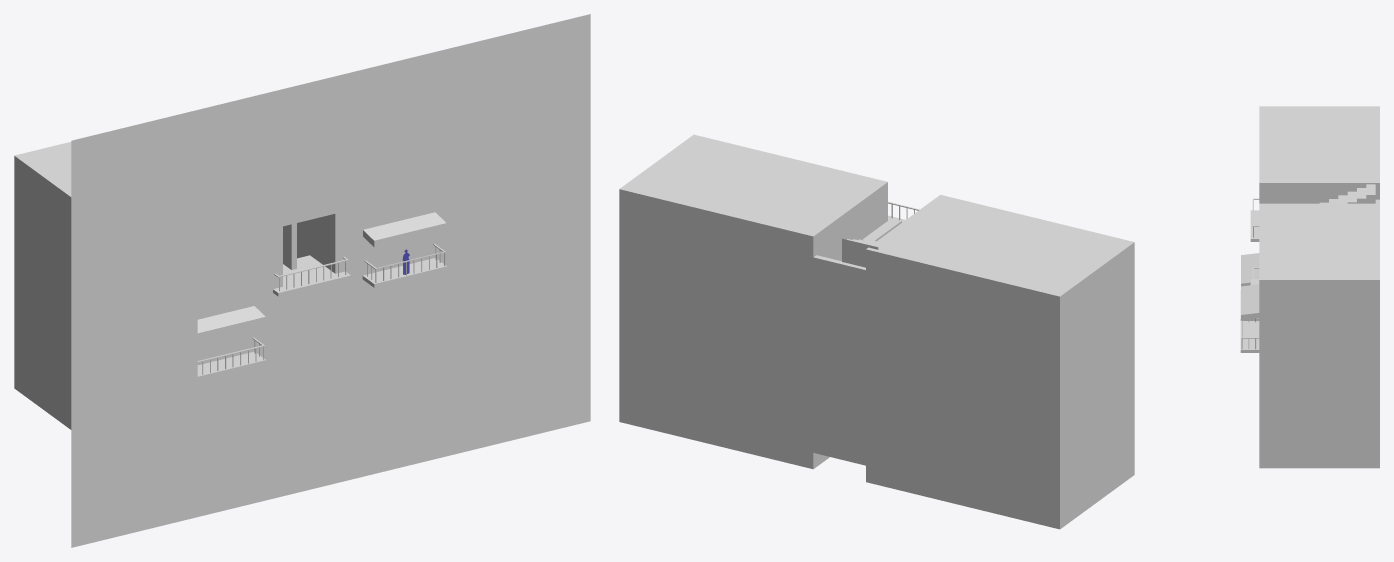
File: page_2__scene.glb
3 views of the same model, side by side, from view 1: azimuth 30°, elevation 25°; view 2: azimuth 150°, elevation 25°; view 3: azimuth 270°, elevation 25° (orthographic). The views are drawn at different scales.
Visible parts, largest first — view 1: bounds, Cube, Cube.006, Cube.009, Cube.004, Cube.012, Cube.008, Cube.011; view 2: Cube, Cube.003, Cube.013; view 3: Cube, Cube.013, Cube.009, Cube.008, Cube.012.
Boxes of the visible parts, x1,y1,x2,y2 form: bounds: (71,14,590,547); Cube: (14,142,464,429); Cube.006: (283,283,335,358); Cube.009: (363,212,446,247); Cube.004: (273,255,350,296); Cube.012: (197,306,265,339); Cube.008: (362,258,447,287); Cube.011: (197,351,266,379); Cube: (619,134,1134,529); Cube.003: (810,255,877,468); Cube.013: (842,215,905,267); Cube: (1259,106,1379,468); Cube.013: (1250,184,1375,241); Cube.009: (1241,284,1259,320); Cube.008: (1240,321,1259,352); Cube.012: (1241,253,1259,286).
Bounding box in the file's own units: 62.1 × 46.53 × 19.96.
2 materials, 1 textured.
